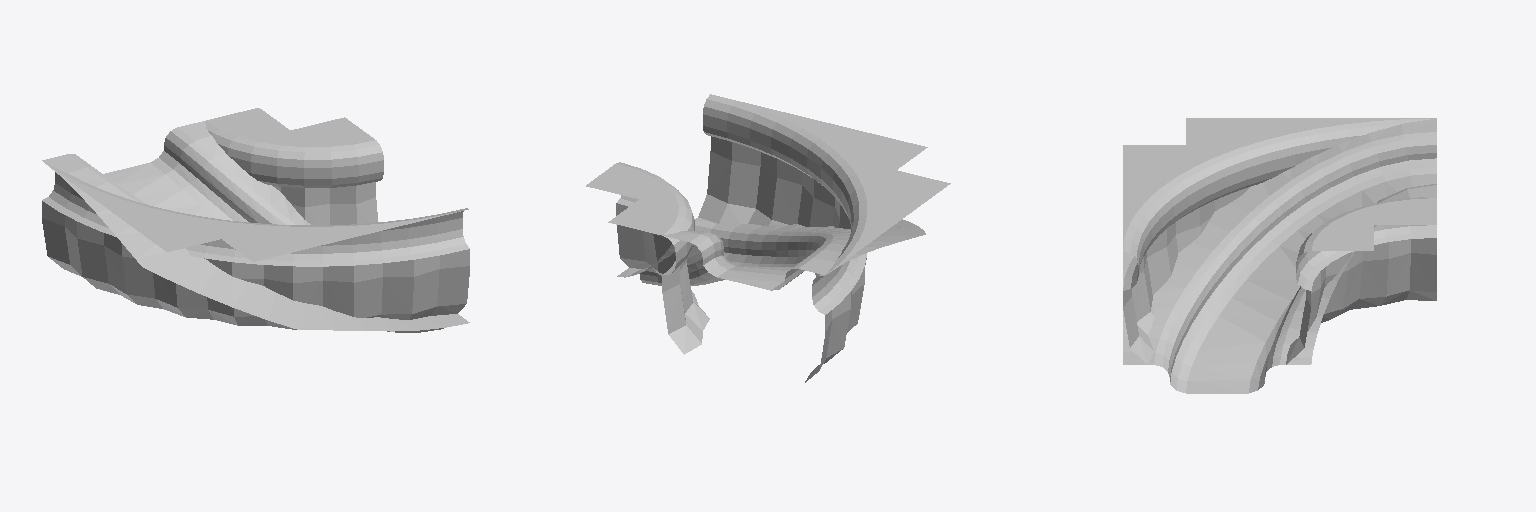
File: Track_Cliff_Curve_Standard_Single_5x5.obj
3 renders of one model, left to right at view 1: azimuth 30°, elevation 25°; view 2: azimuth 150°, elevation 25°; view 3: azimuth 270°, elevation 25°, orthographic.
Visible parts, largest first — view 1: Grass, Rock, Dirt; view 2: Grass, Rock, Dirt; view 3: Grass, Dirt, Rock.
Part boxes in pixels (x1,y1,x2,y2): Grass: (42, 108, 469, 331); Rock: (42, 182, 469, 329); Dirt: (104, 151, 443, 332); Grass: (586, 94, 950, 314); Rock: (616, 136, 866, 382); Dirt: (641, 252, 807, 290); Grass: (1123, 118, 1436, 383); Dirt: (1170, 158, 1436, 393); Rock: (1123, 187, 1436, 364).
Size of the model in its own units: 5 by 2.5 by 5.